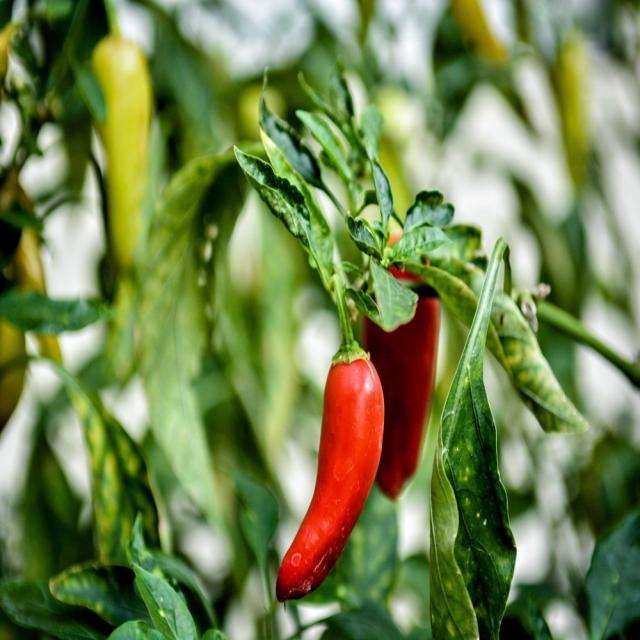Ripe: (276, 358, 384, 602), (364, 266, 440, 499)
Unripe: (91, 22, 151, 270)
